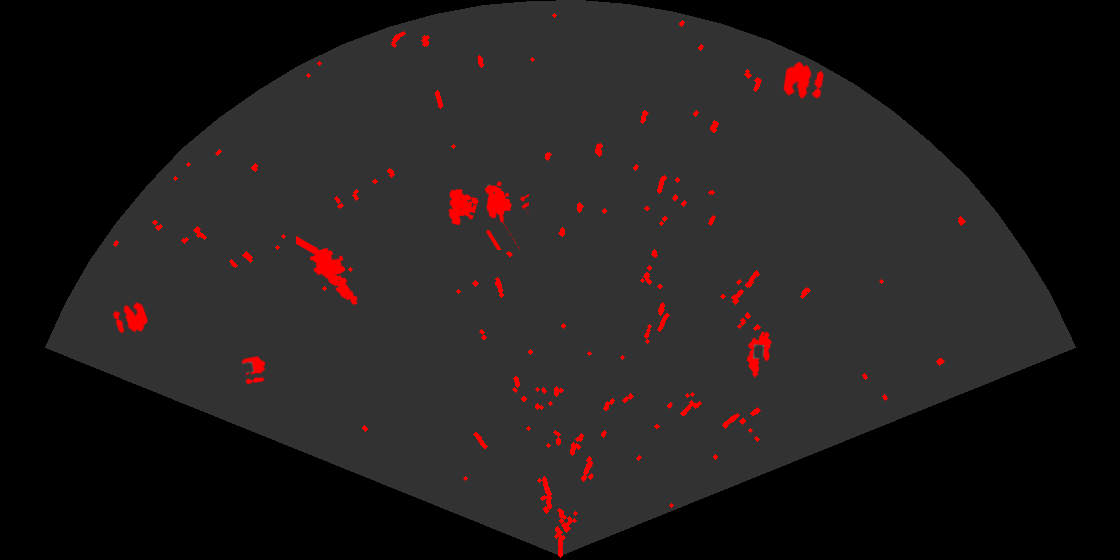AUV: (745, 330, 773, 379)
ball: (781, 60, 826, 101), (111, 300, 149, 335), (240, 354, 267, 386)
cage: (447, 180, 529, 250)
frogman: (296, 236, 359, 307)
